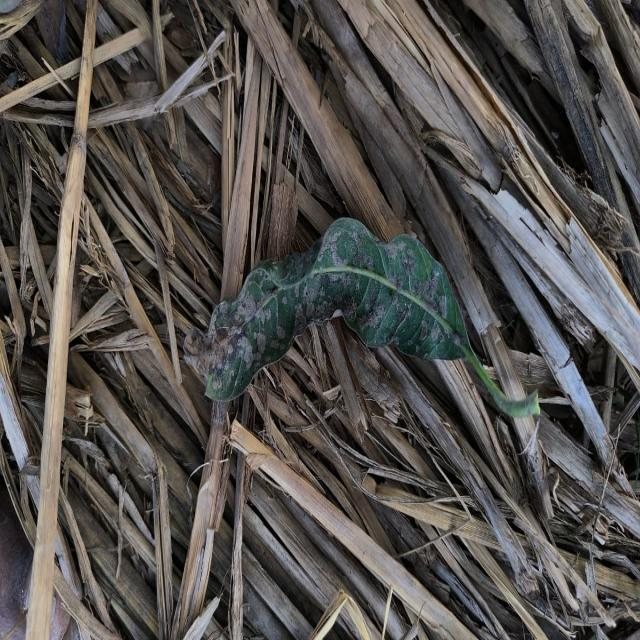Bacterial Cancer: (226, 299, 269, 361), (324, 244, 356, 305)
